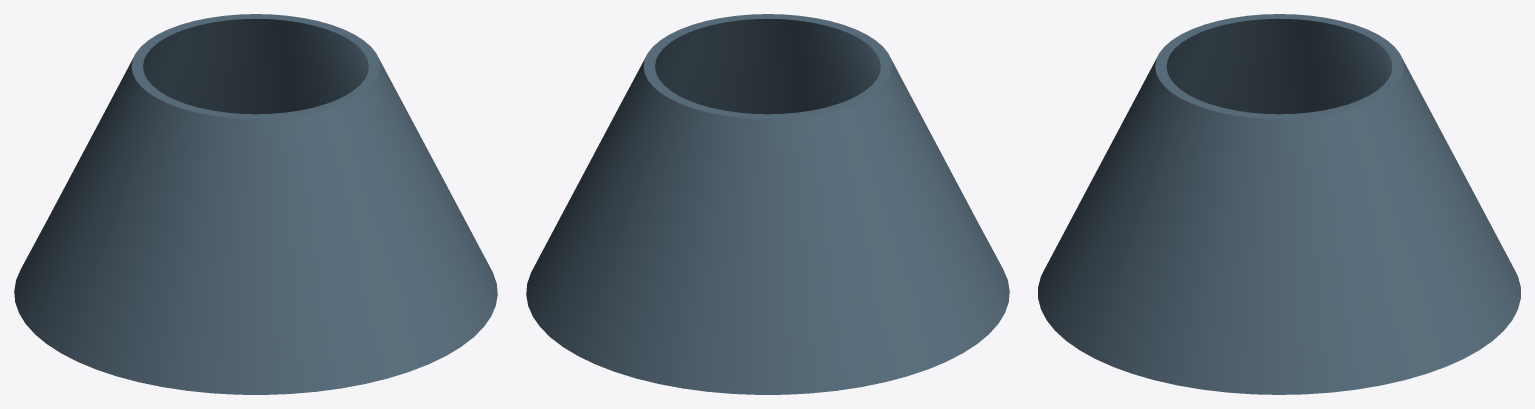
File: perehod-426x16-219x10-L220.glb
3 views of the same model, side by side, from view 1: azimuth 30°, elevation 25°; view 2: azimuth 150°, elevation 25°; view 3: azimuth 270°, elevation 25° (orthographic).
Visible parts, largest first — view 1: Open CASCADE STEP translator 7.9 74; view 2: Open CASCADE STEP translator 7.9 74; view 3: Open CASCADE STEP translator 7.9 74.
Part boxes in pixels (x1,y1,x2,y2): Open CASCADE STEP translator 7.9 74: [14, 14, 497, 394]; Open CASCADE STEP translator 7.9 74: [526, 14, 1009, 394]; Open CASCADE STEP translator 7.9 74: [1038, 14, 1520, 394].
Size of the model in its own units: 426 by 220 by 425.
